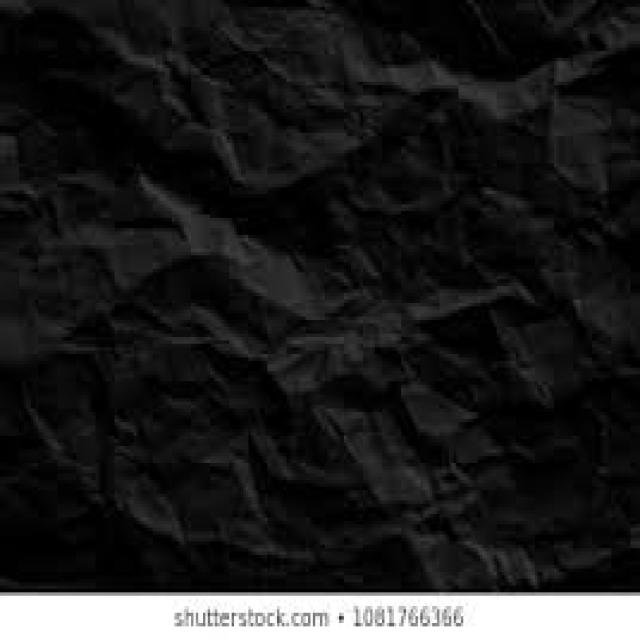paper: (0, 0, 638, 589)
